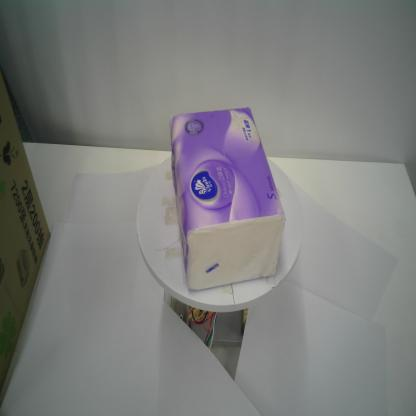Tissue: (166, 102, 286, 292)
